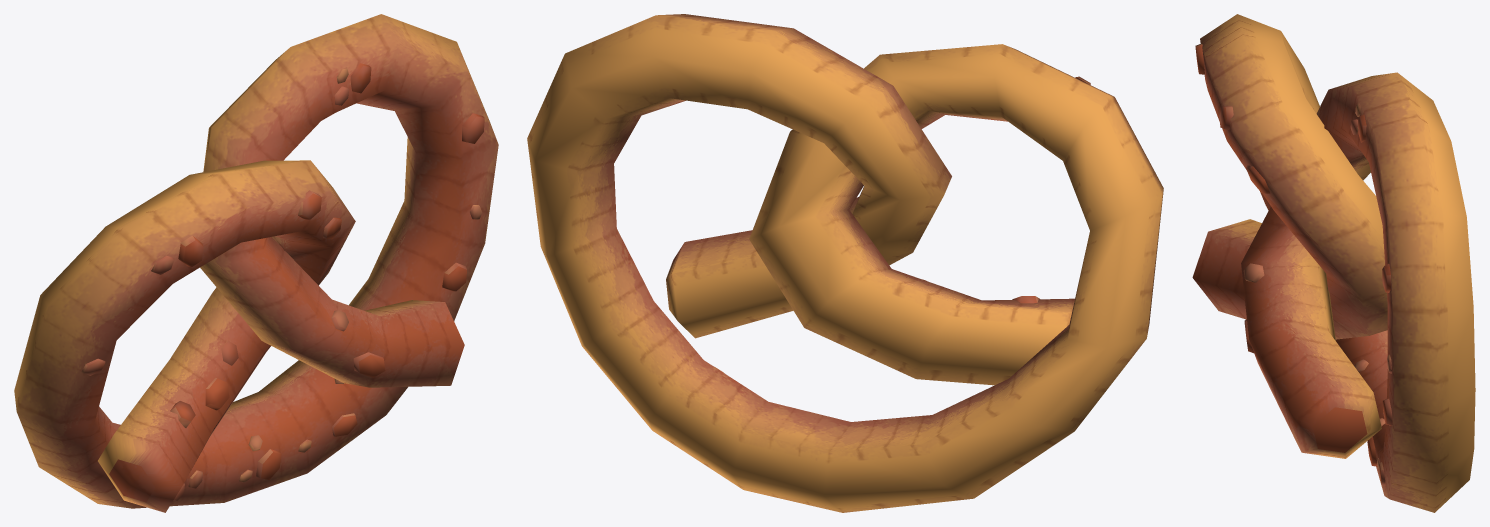
File: Pretzel.glb
3 views of the same model, side by side, from view 1: azimuth 30°, elevation 25°; view 2: azimuth 150°, elevation 25°; view 3: azimuth 270°, elevation 25° (orthographic). The views are drawn at different scales.
Visible parts, largest first — view 1: Pretzel; view 2: Pretzel; view 3: Pretzel.
Boxes of the visible parts, left/top/right/bottom form: Pretzel: left=14, top=14, right=498, bottom=512; Pretzel: left=527, top=14, right=1163, bottom=512; Pretzel: left=1192, top=14, right=1475, bottom=512.
Size of the model in its own units: 0.624 by 0.4893 by 0.288.
Materials: 1 (1 with a texture image).
